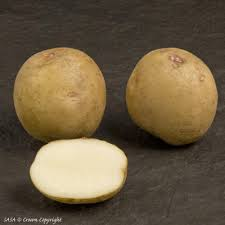potato: (121, 42, 223, 146), (15, 52, 119, 138), (26, 133, 132, 195)
